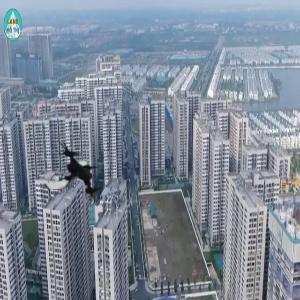drone: (40, 140, 110, 210)
